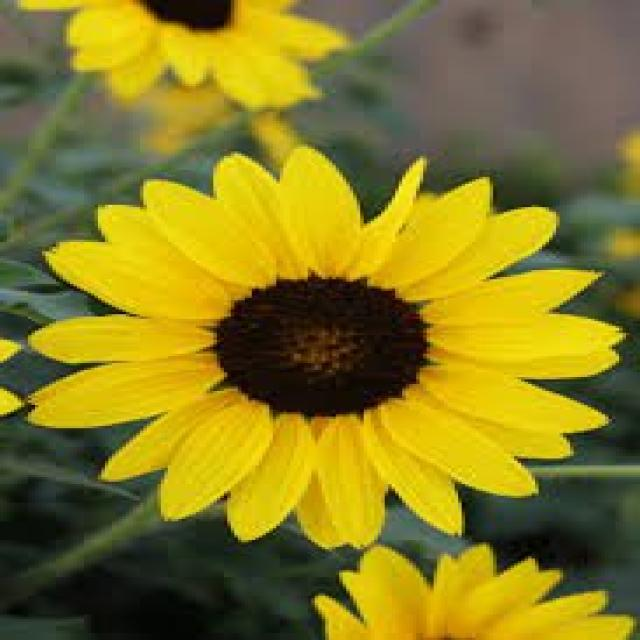sunflower: (16, 132, 638, 558), (17, 0, 360, 116)
